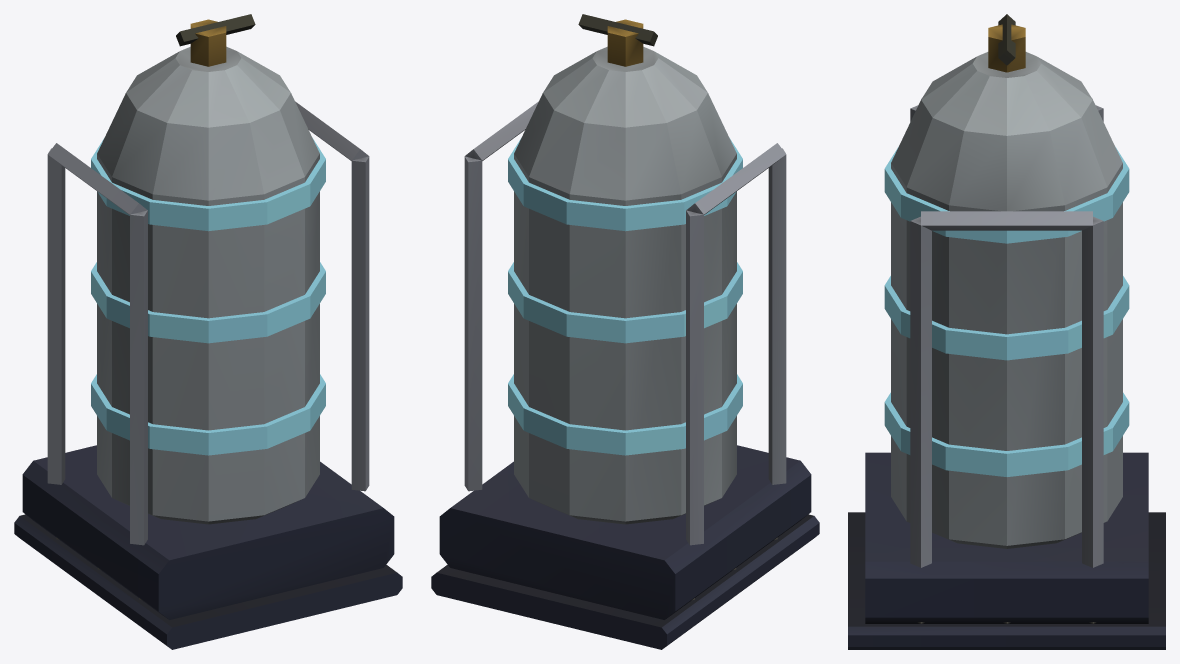
The model's file is sh-stasis.glb.
3 renders of one model, left to right at view 1: azimuth 30°, elevation 25°; view 2: azimuth 150°, elevation 25°; view 3: azimuth 270°, elevation 25°, orthographic. The views are drawn at different scales.
Parts seen in each view (by area): view 1: Body, Glow; view 2: Body, Glow; view 3: Body, Glow.
Part boxes in pixels (x1,y1,x2,y2): Body: (14,14,402,649); Glow: (91,137,325,455); Body: (431,14,819,649); Glow: (508,137,742,455); Body: (848,14,1165,649); Glow: (884,146,1129,476).
Size of the model in its own units: 0.67 by 1.45 by 0.74.
